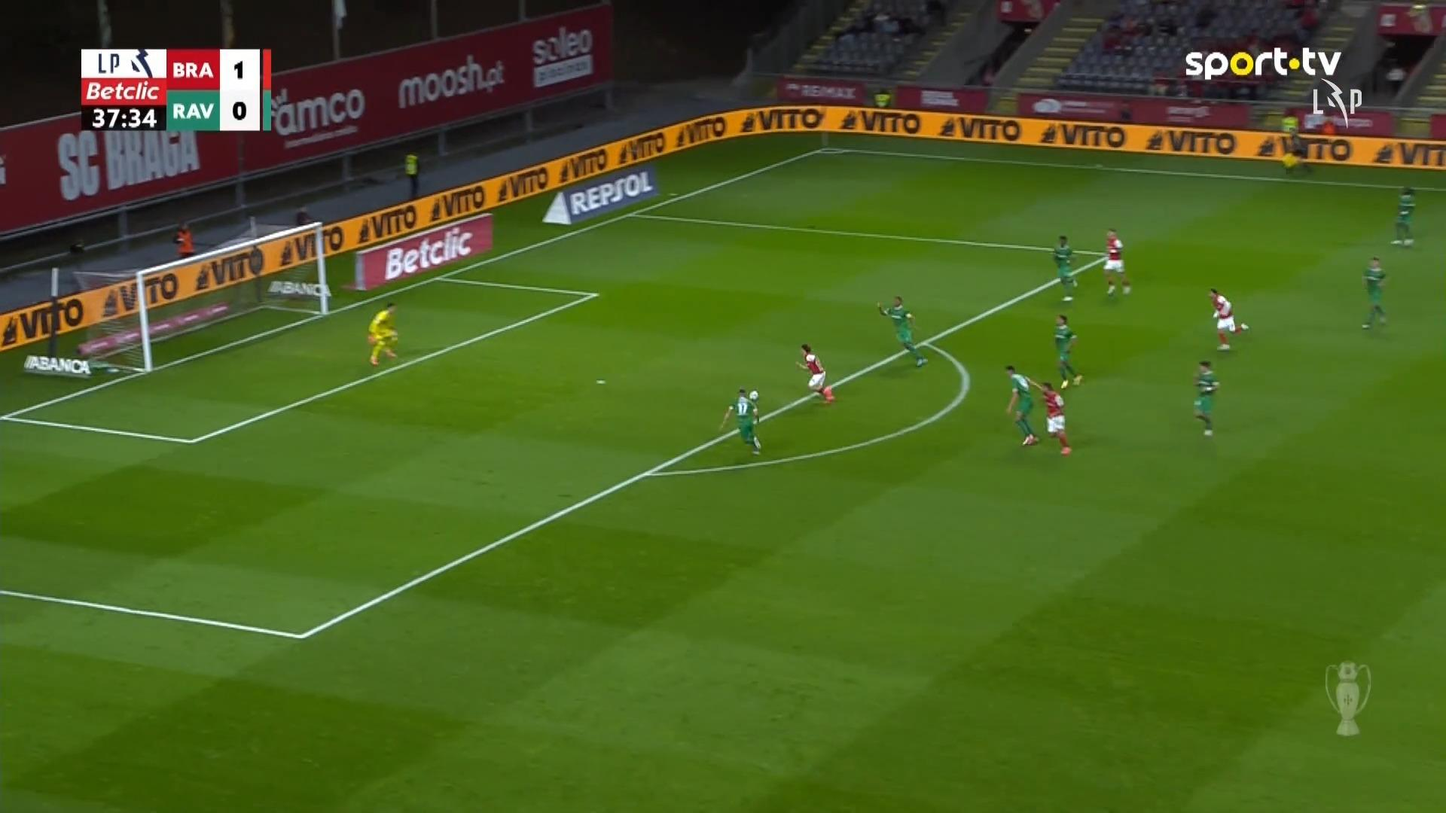ball: (749, 390, 758, 401)
goalkeeper: (366, 301, 399, 366)
player: (877, 294, 928, 367), (718, 387, 762, 455), (1033, 379, 1072, 455), (1004, 364, 1040, 446), (1207, 287, 1249, 350), (795, 343, 836, 403), (1052, 313, 1084, 388), (1191, 359, 1220, 436), (1360, 255, 1388, 329), (1102, 228, 1131, 296), (1051, 233, 1078, 301), (1390, 185, 1416, 246)
referee: (1281, 127, 1312, 178)
